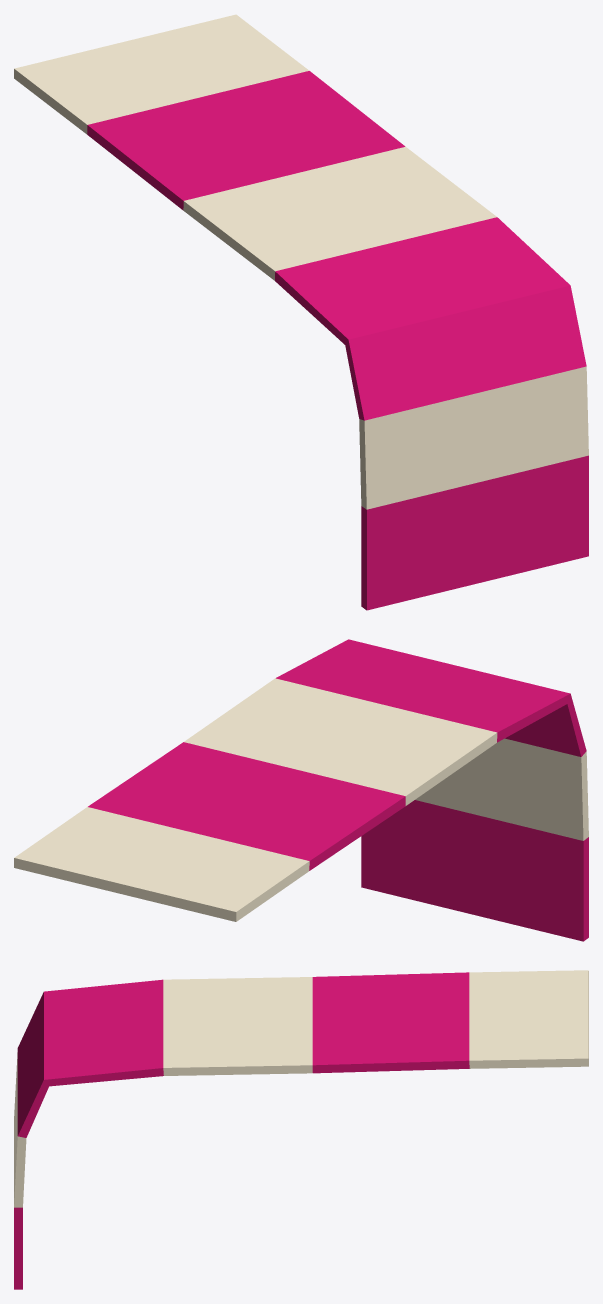
File: stall_scarf.glb
3 renders of one model, top to bottom at view 1: azimuth 30°, elevation 25°; view 2: azimuth 150°, elevation 25°; view 3: azimuth 270°, elevation 25°, orthographic. The views are drawn at different scales.
Parts seen in each view (by area): view 1: stall_scarf; view 2: stall_scarf; view 3: stall_scarf.
Part boxes in pixels (x1=…): stall_scarf: x1=14, y1=14, x2=588, y2=610; stall_scarf: x1=14, y1=639, x2=588, y2=941; stall_scarf: x1=14, y1=970, x2=588, y2=1289.
Size of the model in its own units: 0.28 by 0.3417 by 0.7702.
